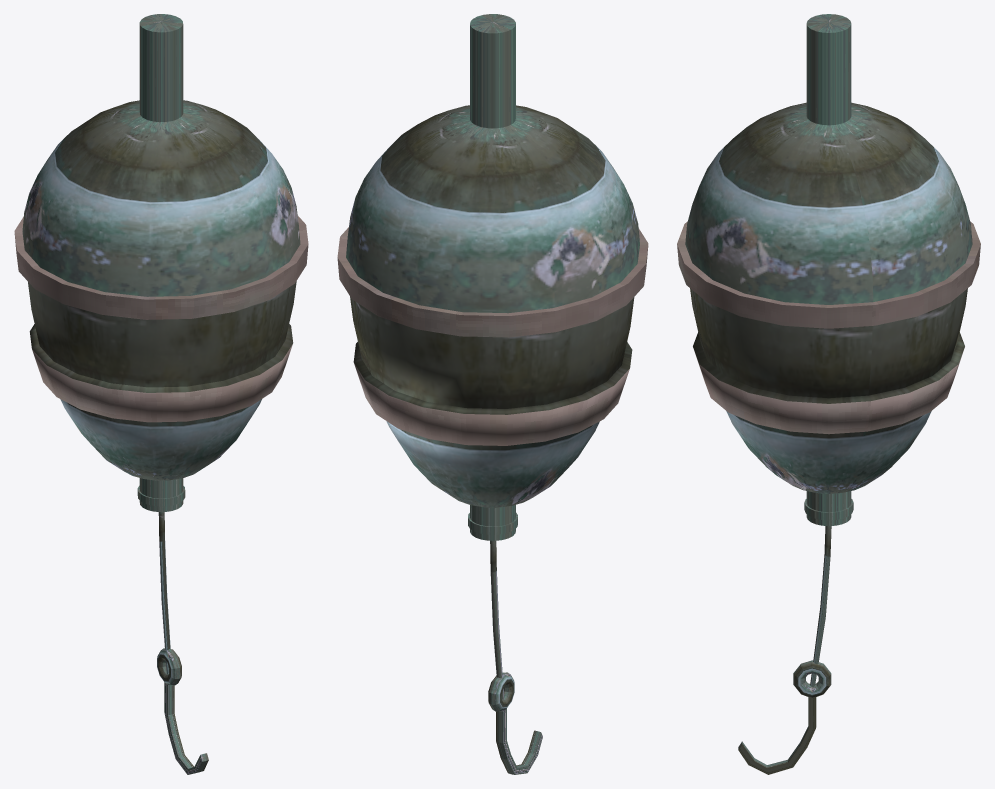
Rendered from Fishing_Hook_001.glb.
3 renders of one model, left to right at view 1: azimuth 30°, elevation 25°; view 2: azimuth 150°, elevation 25°; view 3: azimuth 270°, elevation 25°, orthographic. The views are drawn at different scales.
Visible parts, largest first — view 1: pCylinder2; view 2: pCylinder2; view 3: pCylinder2.
Boxes of the visible parts, x1,y1,x2,y2 form: pCylinder2: (14, 14, 308, 774); pCylinder2: (337, 14, 648, 774); pCylinder2: (677, 14, 980, 774).
Size of the model in its own units: 0.0212 by 0.0577 by 0.0212.
Materials: 2 (2 with a texture image).
